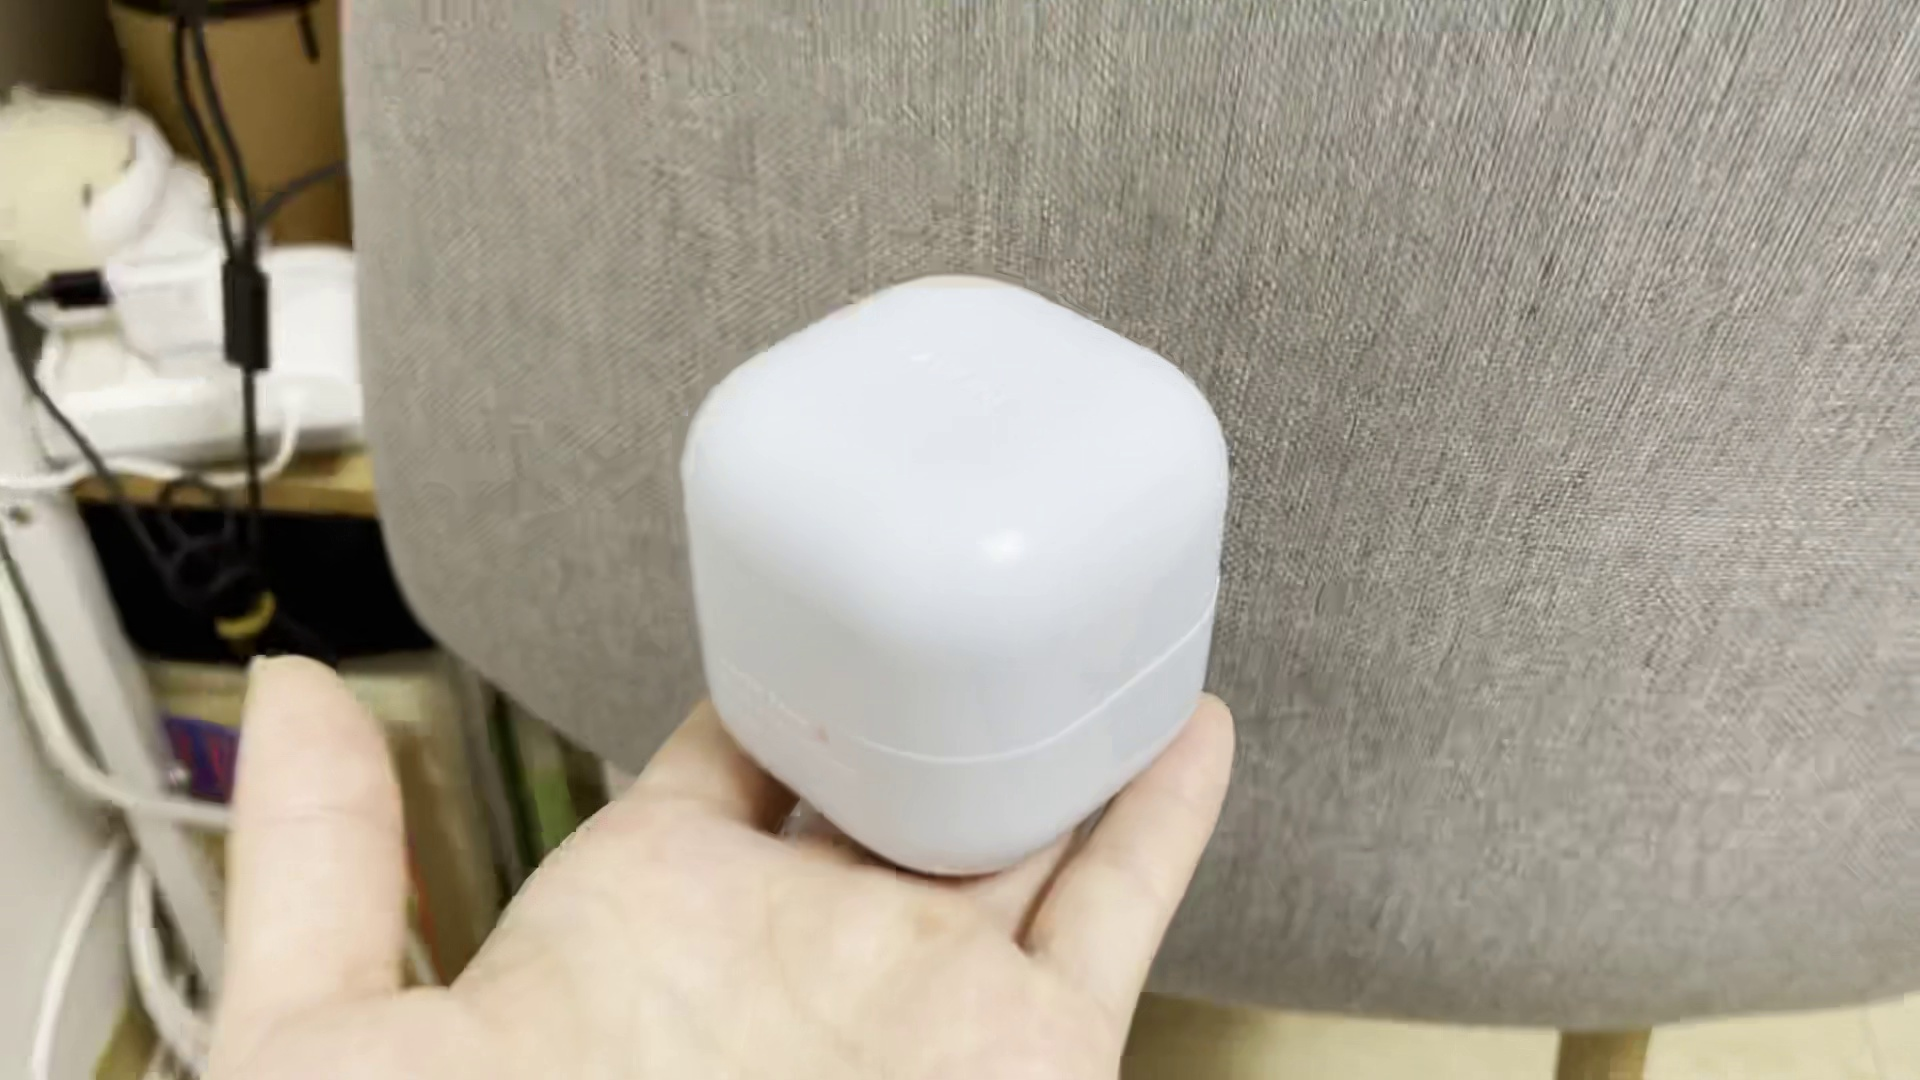cream: (678, 278, 1226, 870)
